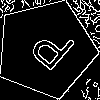P: (21, 24, 78, 80)
